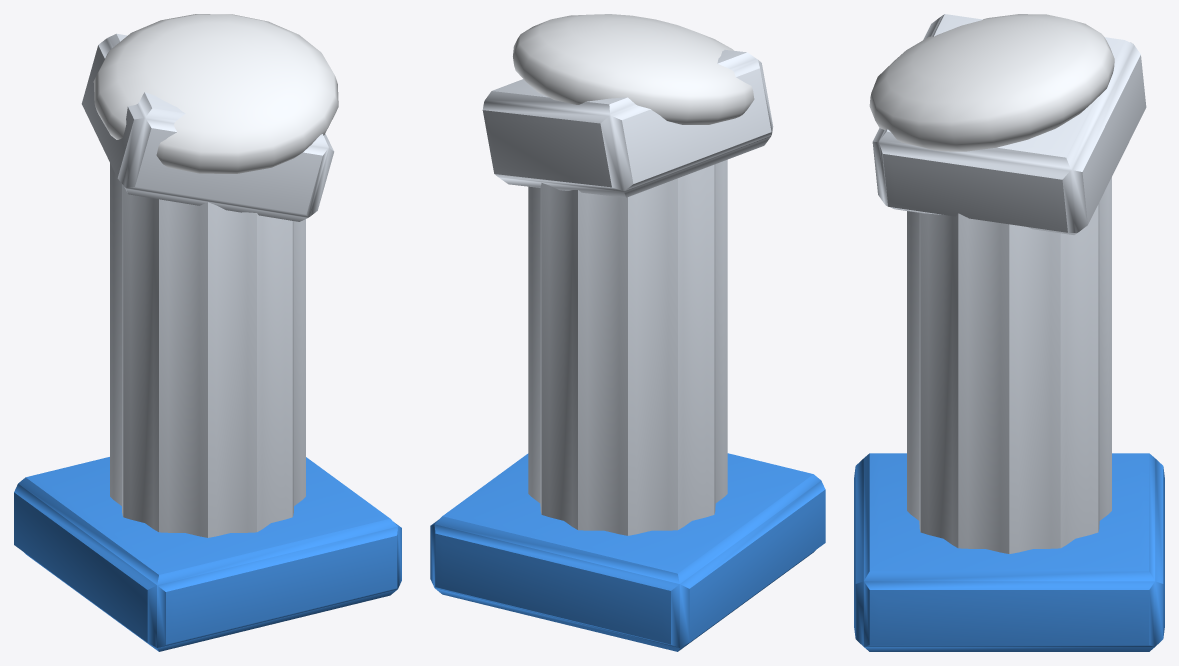
The model's file is TempleColumnBroken.glb.
3 renders of one model, left to right at view 1: azimuth 30°, elevation 25°; view 2: azimuth 150°, elevation 25°; view 3: azimuth 270°, elevation 25°, orthographic. The views are drawn at different scales.
Parts seen in each view (by area): view 1: TempleColumnBroken; view 2: TempleColumnBroken; view 3: TempleColumnBroken.
Boxes of the visible parts, bbox=[...] form: TempleColumnBroken: bbox=[14, 14, 401, 651]; TempleColumnBroken: bbox=[430, 14, 825, 651]; TempleColumnBroken: bbox=[854, 14, 1164, 651].
Bounding box in the file's own units: 5.4 × 10.71 × 5.4.
Materials: 1 (1 with a texture image).
